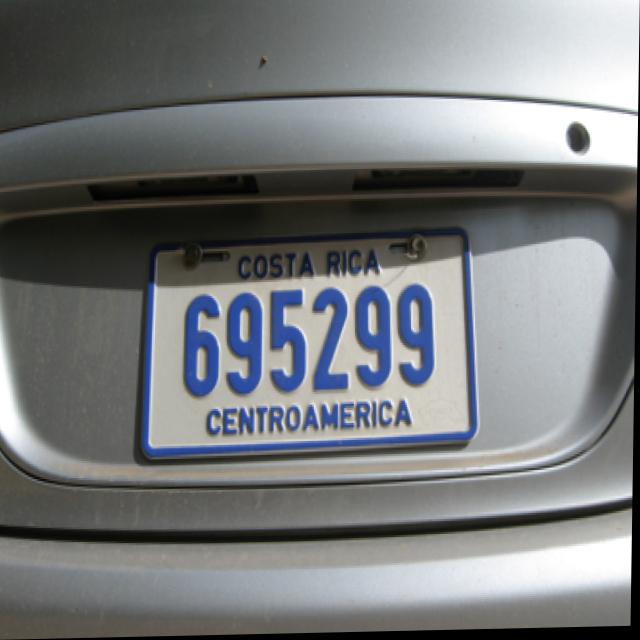licence: (149, 241, 469, 443)
